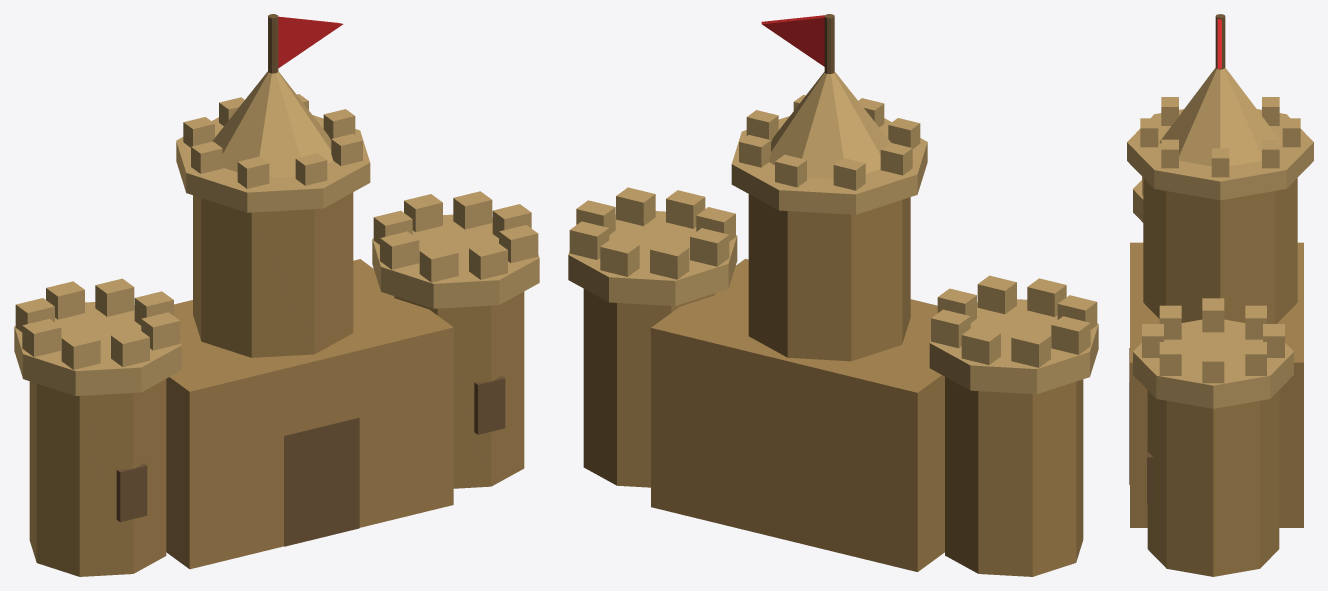
The model's file is SandcastleSmallA.glb.
3 renders of one model, left to right at view 1: azimuth 30°, elevation 25°; view 2: azimuth 150°, elevation 25°; view 3: azimuth 270°, elevation 25°, orthographic. The views are drawn at different scales.
Parts seen in each view (by area): view 1: SandcastleSmallA_Gatehouse, SandcastleSmallA_LeftTowerTowerBody, SandcastleSmallA_CentralTower, SandcastleSmallA_RightTowerTowerBody, SandcastleSmallA_GateArchRecess, SandcastleSmallA_LeftTowerBattlementRing, SandcastleSmallA_RightTowerBattlementRing, SandcastleSmallA_ConeRoof, SandcastleSmallA_CentralTowerBattlementBase, SandcastleSmallA_Flag, SandcastleSmallA_LeftTowerWindowRecess, SandcastleSmallA_RightTowerWindowRecess (+22 smaller); view 2: SandcastleSmallA_Gatehouse, SandcastleSmallA_LeftTowerTowerBody, SandcastleSmallA_CentralTower, SandcastleSmallA_RightTowerTowerBody, SandcastleSmallA_RightTowerBattlementRing, SandcastleSmallA_LeftTowerBattlementRing, SandcastleSmallA_ConeRoof, SandcastleSmallA_CentralTowerBattlementBase, SandcastleSmallA_Flag, SandcastleSmallA_LeftTowerCrenel04, SandcastleSmallA_RightTowerCrenel03, SandcastleSmallA_RightTowerCrenel05 (+19 smaller); view 3: SandcastleSmallA_RightTowerTowerBody, SandcastleSmallA_CentralTower, SandcastleSmallA_Gatehouse, SandcastleSmallA_RightTowerBattlementRing, SandcastleSmallA_ConeRoof, SandcastleSmallA_CentralTowerBattlementBase, SandcastleSmallA_RightTowerCrenel01, SandcastleSmallA_RightTowerCrenel05, SandcastleSmallA_RightTowerCrenel08, SandcastleSmallA_RightTowerCrenel02, SandcastleSmallA_RightTowerCrenel06, SandcastleSmallA_RightTowerCrenel04 (+12 smaller).
Boxes of the visible parts, x1,y1,x2,y2 form: SandcastleSmallA_Gatehouse: [166, 259, 453, 569]; SandcastleSmallA_LeftTowerTowerBody: [29, 379, 166, 576]; SandcastleSmallA_CentralTower: [193, 192, 353, 357]; SandcastleSmallA_RightTowerTowerBody: [394, 291, 524, 488]; SandcastleSmallA_GateArchRecess: [284, 417, 359, 546]; SandcastleSmallA_LeftTowerBattlementRing: [14, 302, 181, 395]; SandcastleSmallA_RightTowerBattlementRing: [372, 214, 539, 308]; SandcastleSmallA_ConeRoof: [212, 71, 332, 177]; SandcastleSmallA_CentralTowerBattlementBase: [176, 115, 370, 212]; SandcastleSmallA_Flag: [278, 16, 343, 68]; SandcastleSmallA_LeftTowerWindowRecess: [116, 463, 147, 522]; SandcastleSmallA_RightTowerWindowRecess: [474, 376, 505, 434]; SandcastleSmallA_Gatehouse: [651, 259, 944, 571]; SandcastleSmallA_LeftTowerTowerBody: [945, 377, 1083, 576]; SandcastleSmallA_CentralTower: [748, 194, 910, 361]; SandcastleSmallA_RightTowerTowerBody: [583, 289, 715, 487]; SandcastleSmallA_RightTowerBattlementRing: [568, 211, 737, 305]; SandcastleSmallA_LeftTowerBattlementRing: [929, 299, 1098, 394]; SandcastleSmallA_ConeRoof: [769, 71, 891, 179]; SandcastleSmallA_CentralTowerBattlementBase: [731, 116, 927, 214]; SandcastleSmallA_Flag: [761, 15, 824, 66]; SandcastleSmallA_LeftTowerCrenel04: [1011, 329, 1050, 367]; SandcastleSmallA_RightTowerCrenel03: [600, 238, 639, 276]; SandcastleSmallA_RightTowerCrenel05: [690, 228, 729, 266]; SandcastleSmallA_RightTowerTowerBody: [1147, 390, 1279, 576]; SandcastleSmallA_CentralTower: [1143, 178, 1297, 323]; SandcastleSmallA_Gatehouse: [1130, 242, 1303, 527]; SandcastleSmallA_RightTowerBattlementRing: [1133, 319, 1293, 408]; SandcastleSmallA_ConeRoof: [1159, 67, 1281, 166]; SandcastleSmallA_CentralTowerBattlementBase: [1127, 109, 1313, 200]; SandcastleSmallA_RightTowerCrenel01: [1202, 349, 1224, 383]; SandcastleSmallA_RightTowerCrenel05: [1202, 298, 1224, 332]; SandcastleSmallA_RightTowerCrenel08: [1159, 342, 1181, 375]; SandcastleSmallA_RightTowerCrenel02: [1245, 342, 1266, 375]; SandcastleSmallA_RightTowerCrenel06: [1159, 305, 1181, 339]; SandcastleSmallA_RightTowerCrenel04: [1245, 305, 1266, 339].
Size of the model in its own units: 2.98 by 2.72 by 1.02.
